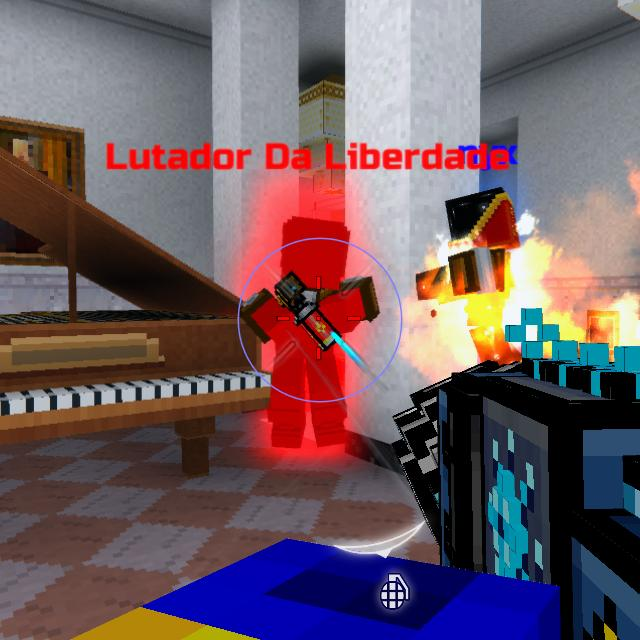Enemy: (238, 221, 380, 454)
